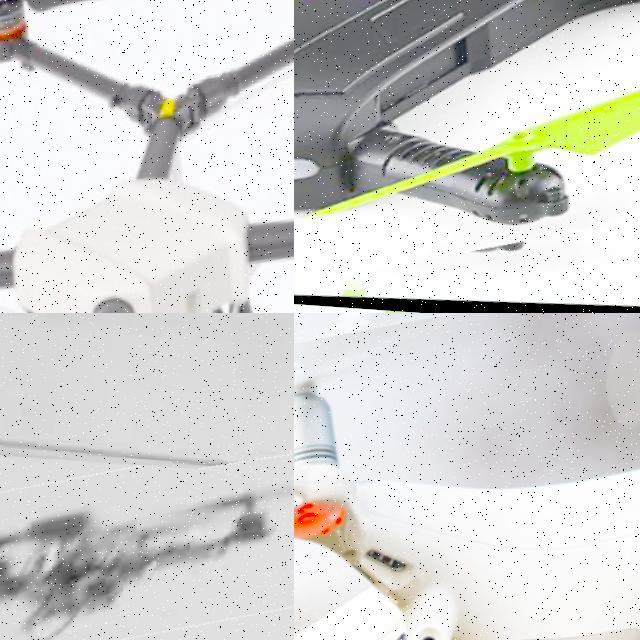0: (0, 442, 294, 640)
drone: (294, 313, 640, 640), (294, 0, 640, 313), (0, 0, 294, 313)
